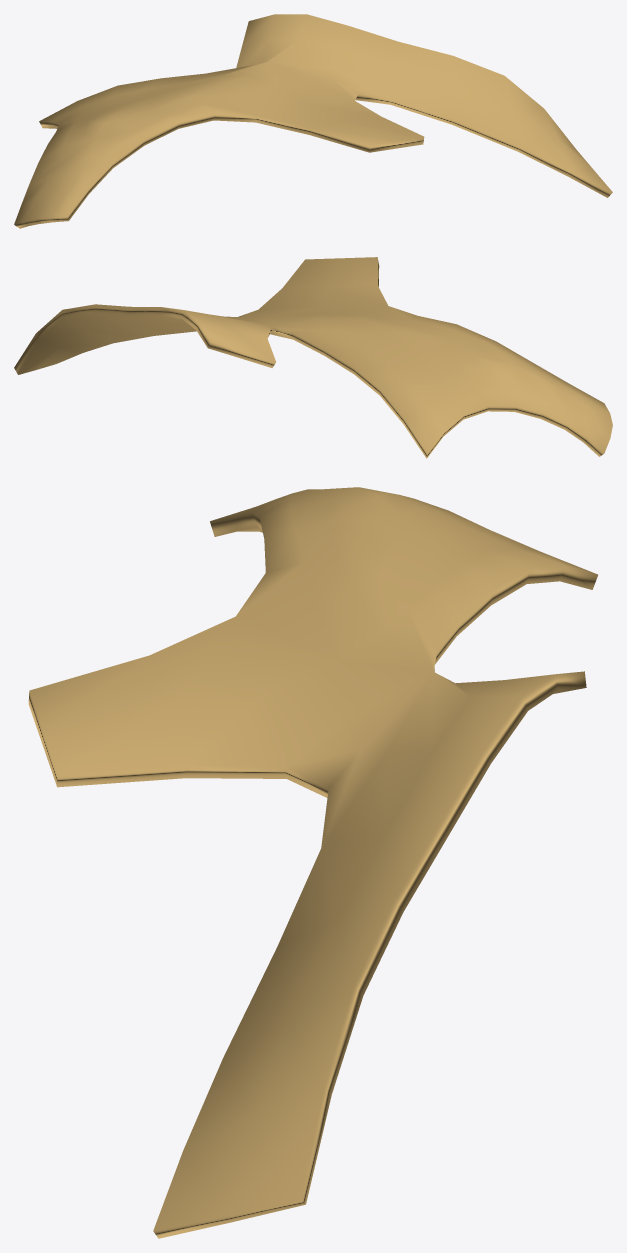
3 views of the same model, one above another, from view 1: azimuth 30°, elevation 25°; view 2: azimuth 150°, elevation 25°; view 3: azimuth 270°, elevation 25° (orthographic). The views are drawn at different scales.
Visible parts, largest first — view 1: 左侧腕骨间背侧韧带; view 2: 左侧腕骨间背侧韧带; view 3: 左侧腕骨间背侧韧带.
Part boxes in pixels (bbox=[...]): 左侧腕骨间背侧韧带: bbox=[14, 14, 612, 228]; 左侧腕骨间背侧韧带: bbox=[14, 257, 612, 458]; 左侧腕骨间背侧韧带: bbox=[28, 487, 597, 1238].
Bounding box in the file's own units: 0.0574 × 0.0165 × 0.0253.
